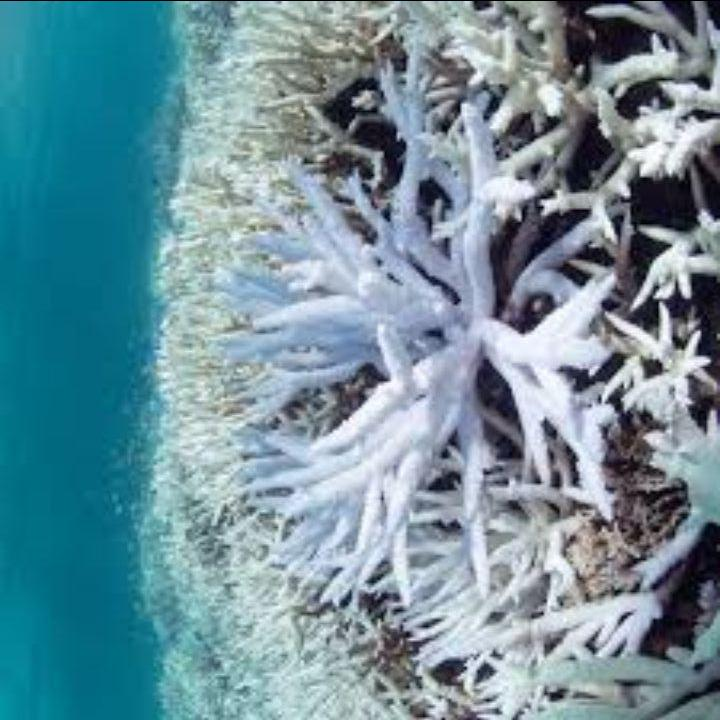Bleached-disease: (226, 163, 616, 604), (414, 486, 706, 720)
